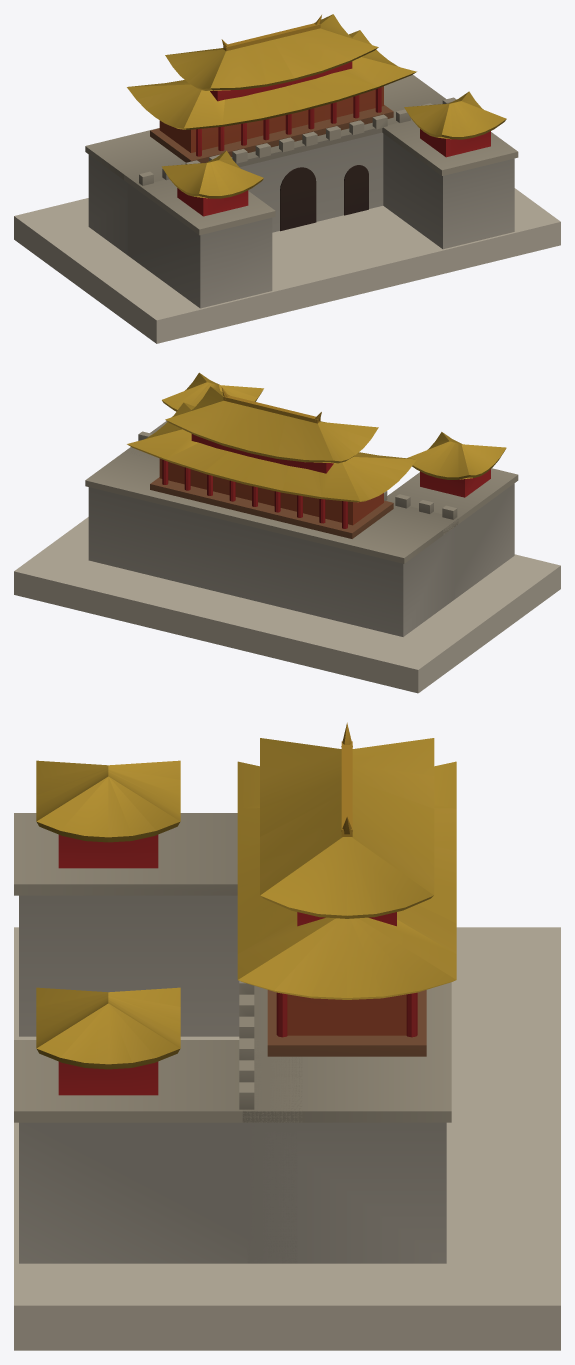
Rendered from lm-hue.glb.
3 renders of one model, top to bottom at view 1: azimuth 30°, elevation 25°; view 2: azimuth 150°, elevation 25°; view 3: azimuth 270°, elevation 25°, orthographic. The views are drawn at different scales.
Size of the model in its own units: 18 by 8.7 by 11.
